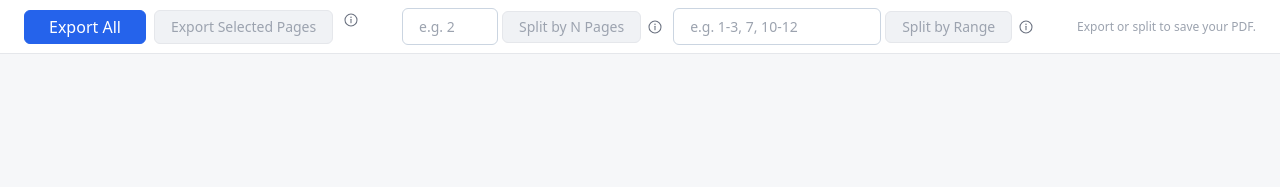
Test: Toolbar — info icon (InfoTooltip) placement › reveals the exportAll help copy only after its icon is activated
Click the button named "Help: Export all" at (351, 20), box x1=341 y1=10 x2=361 y2=30
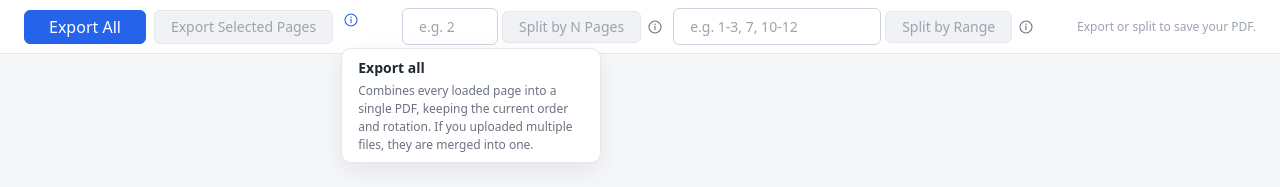
Check: the text "Combines every loaded page into a single PDF, keeping the current order and rotation. If you uploaded multiple files, th" is shown, box x1=358 y1=82 x2=572 y2=152
